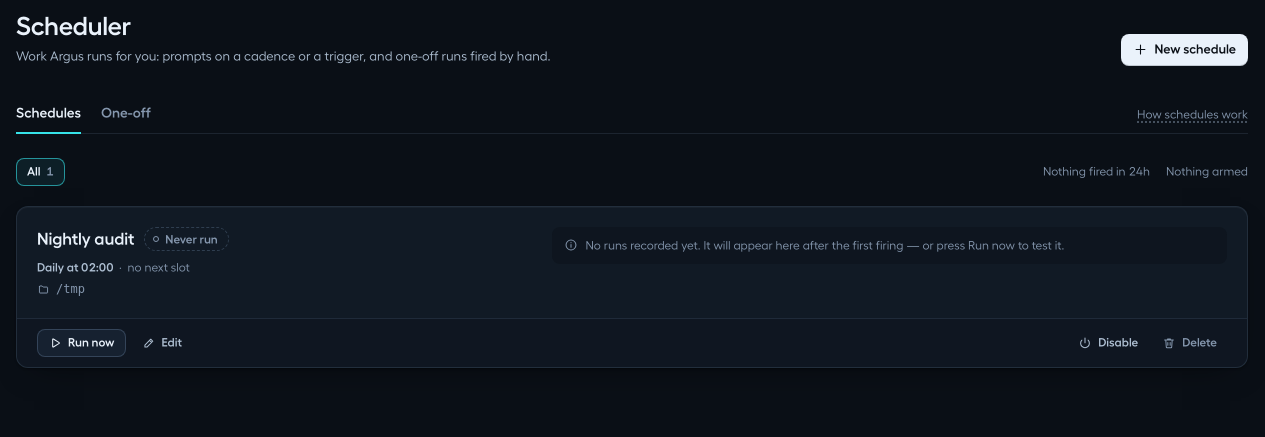
Test: Schedules health › asks before deleting, and Keep deletes nothing and hands focus back
What coordinates should you click on to do the following:
click the button with aria-label "Delete Nightly audit"
I would click on:
 (1190, 342)
Its box is 1152,328 -> 1227,356.
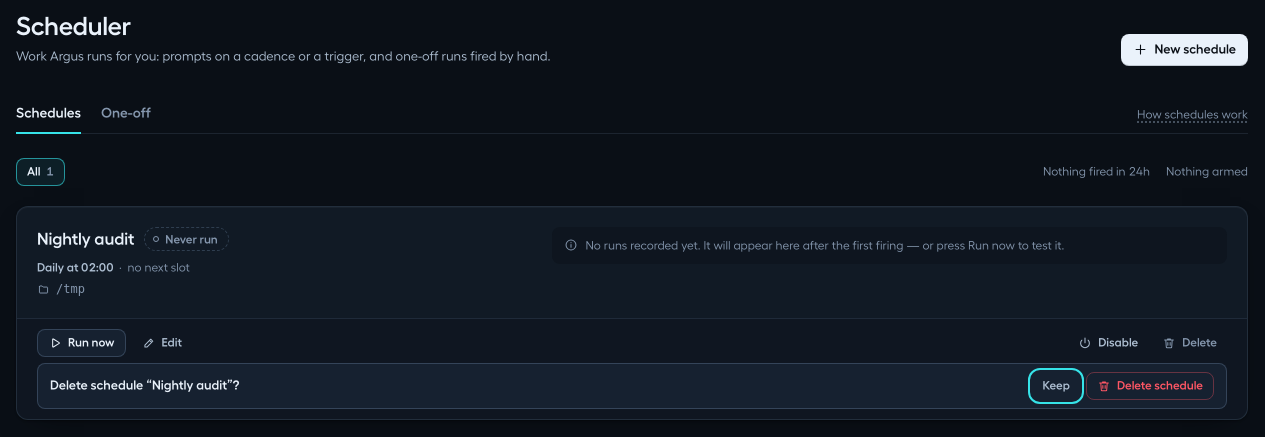
Now the element "Delete schedule “Nightly audit”?" is shown, box 37,362 -> 1227,408
What coordinates should you click on to do the following:
click the button "Keep"
I would click on:
 (1056, 386)
Its box is 1032,372 -> 1080,400.
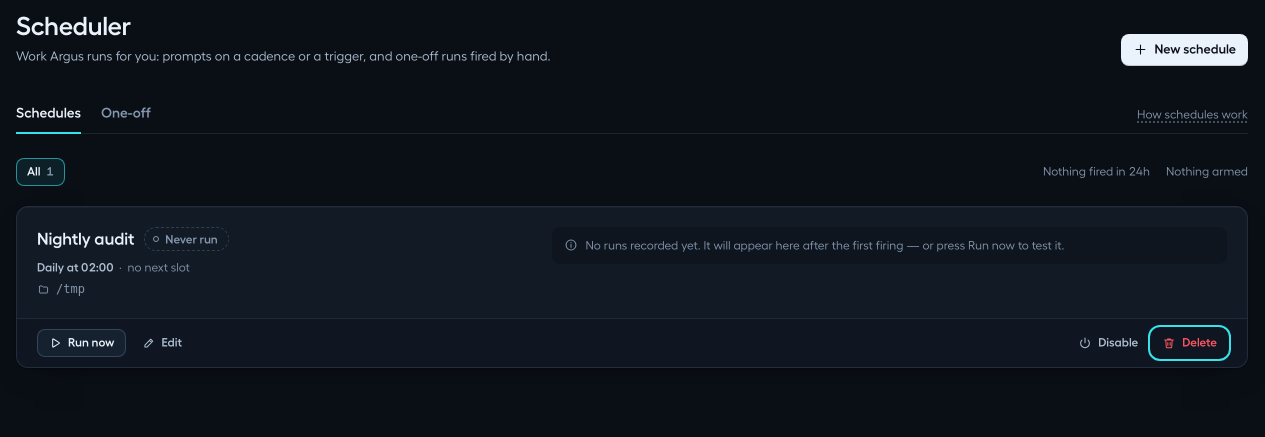
Now the text "Delete schedule" is gone
